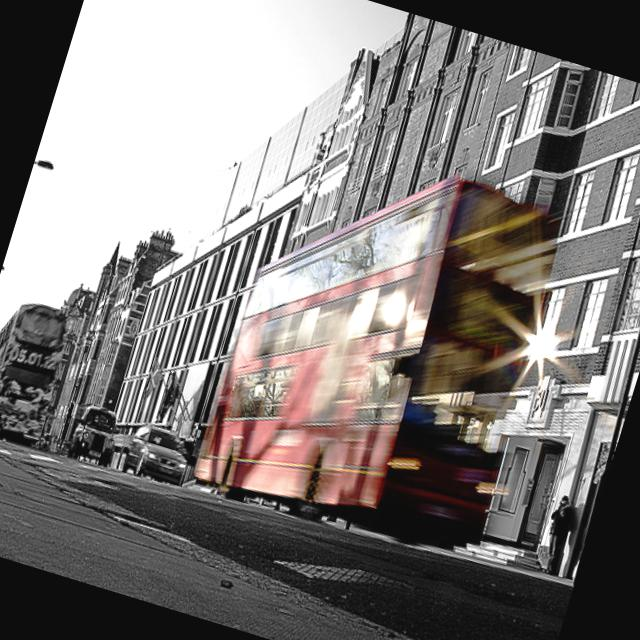Vehicle: (190, 128, 580, 568), (0, 296, 78, 449), (121, 418, 198, 488), (64, 398, 128, 471)
